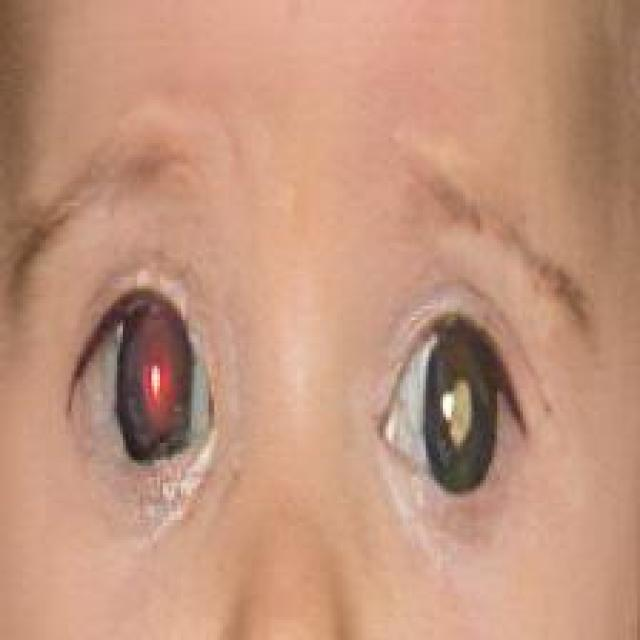reflexo-alterado: (348, 290, 552, 510)
reflexo-normal: (71, 286, 209, 482)
